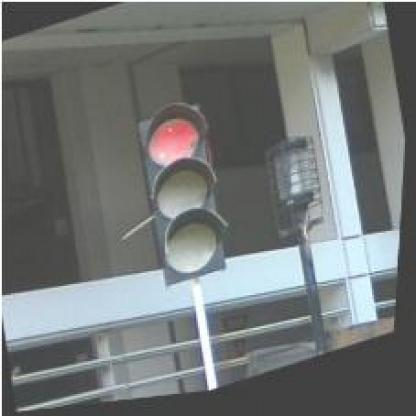red: (129, 92, 241, 292)
